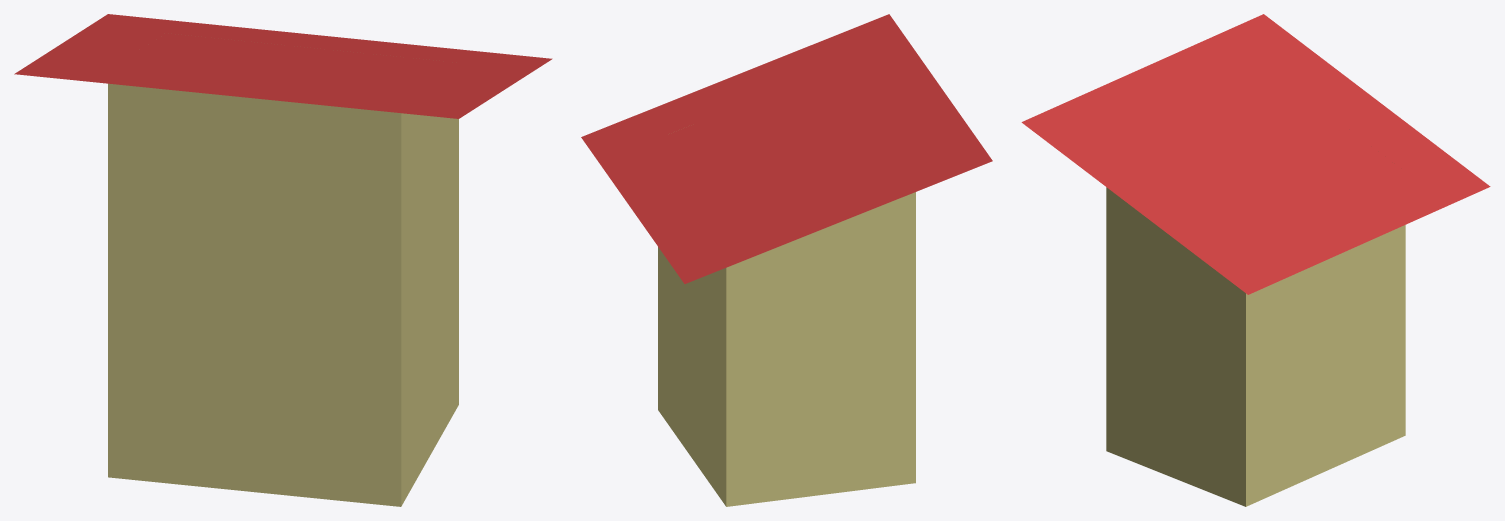
3 views of the same model, side by side, from view 1: azimuth 30°, elevation 25°; view 2: azimuth 150°, elevation 25°; view 3: azimuth 270°, elevation 25° (orthographic). The views are drawn at different scales.
Bounding box in the file's own units: 7.84 × 7.81 × 6.05.
